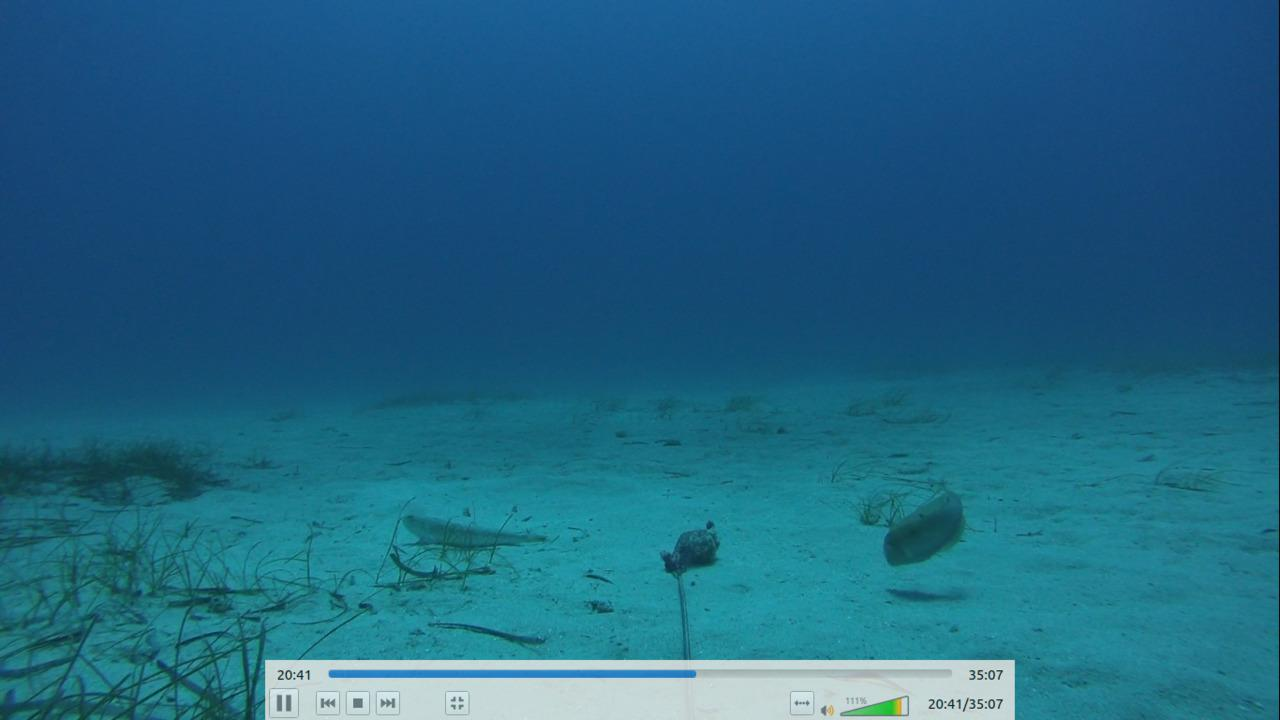raor: (880, 486, 967, 572)
